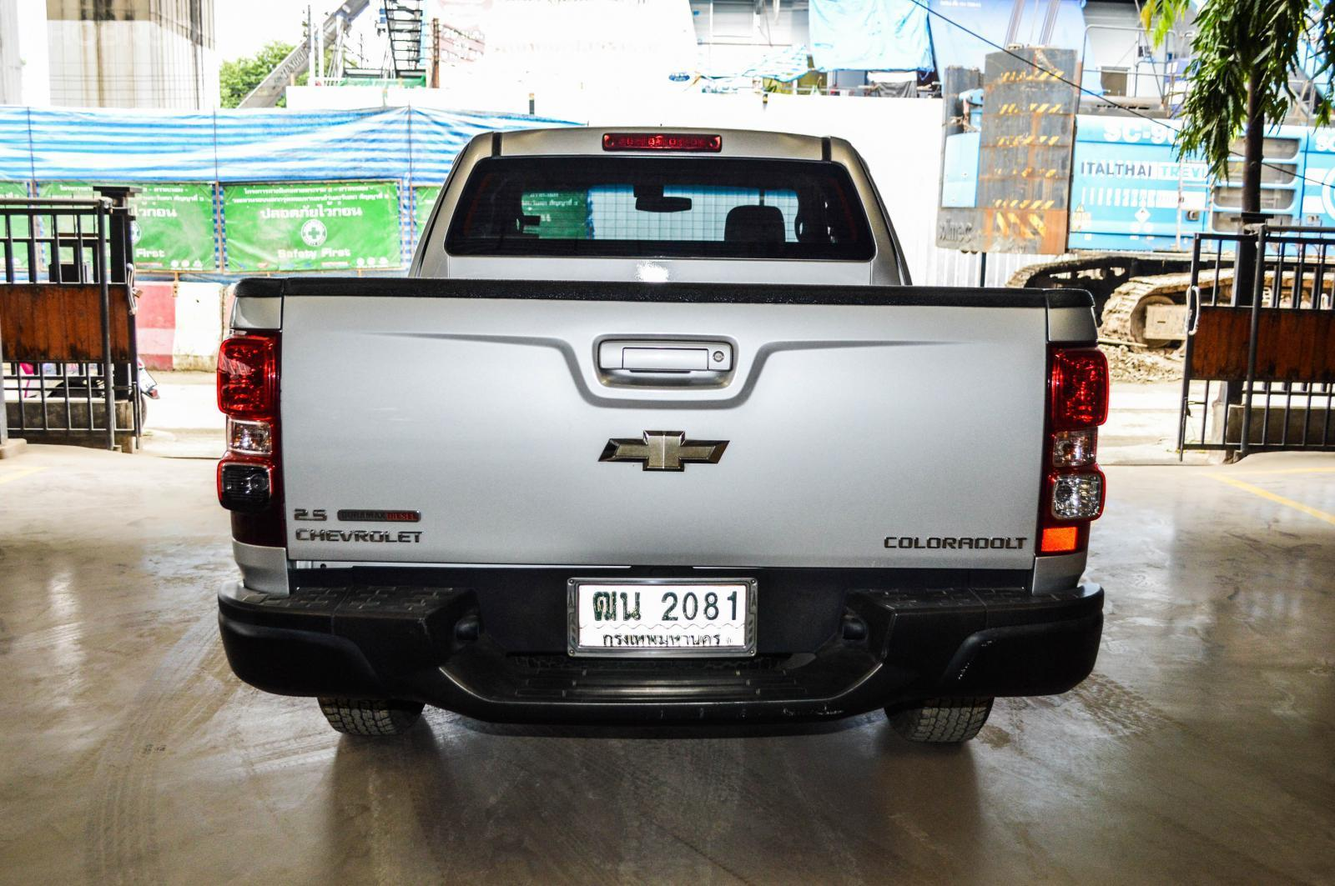license-plate: (568, 574, 759, 657)
